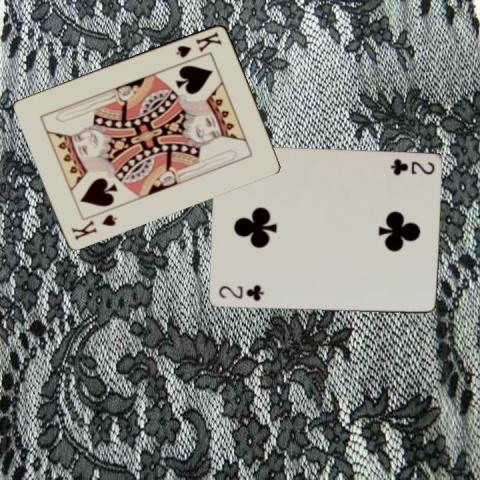2c: (215, 282, 265, 303), (387, 156, 436, 176)
Ks: (68, 210, 119, 240), (172, 28, 222, 58)
